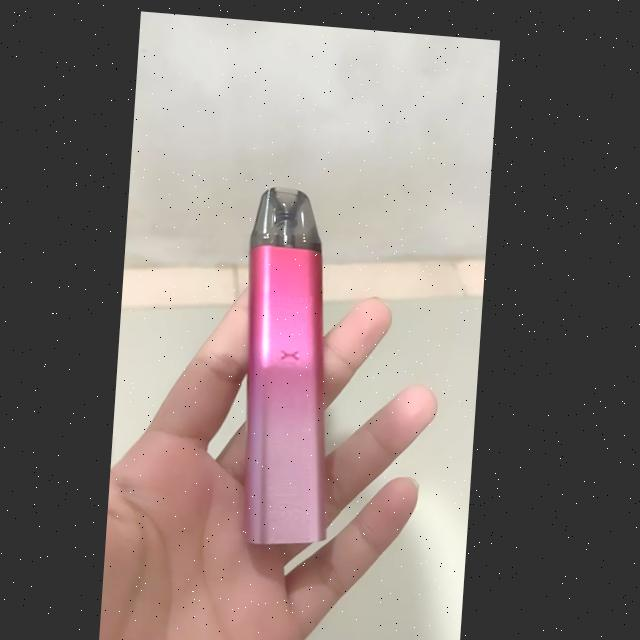vape: (233, 182, 353, 546)
